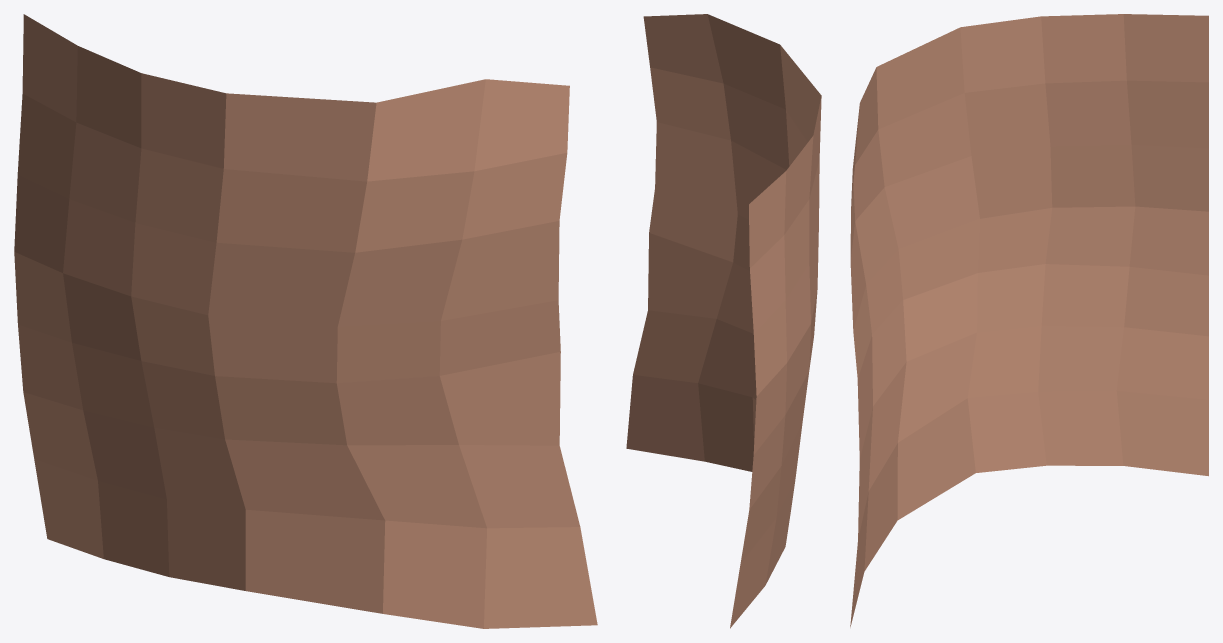
Rendered from jerotorsoizq (1).fbx.
3 views of the same model, side by side, from view 1: azimuth 30°, elevation 25°; view 2: azimuth 150°, elevation 25°; view 3: azimuth 270°, elevation 25° (orthographic). The views are drawn at different scales.
Visible parts, largest first — view 1: Plane.001; view 2: Plane.001; view 3: Plane.001.
Part boxes in pixels (x1,y1,x2,y2): Plane.001: (14, 14, 597, 628); Plane.001: (626, 14, 821, 628); Plane.001: (850, 14, 1208, 627).
Bounding box in the file's own units: 14.83 × 21.62 × 14.58.
